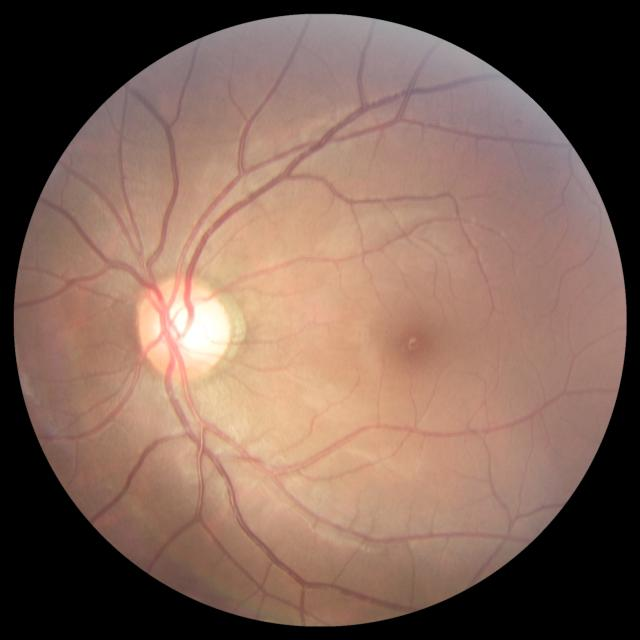OC: (153, 295, 221, 362)
OD: (136, 275, 230, 381)
